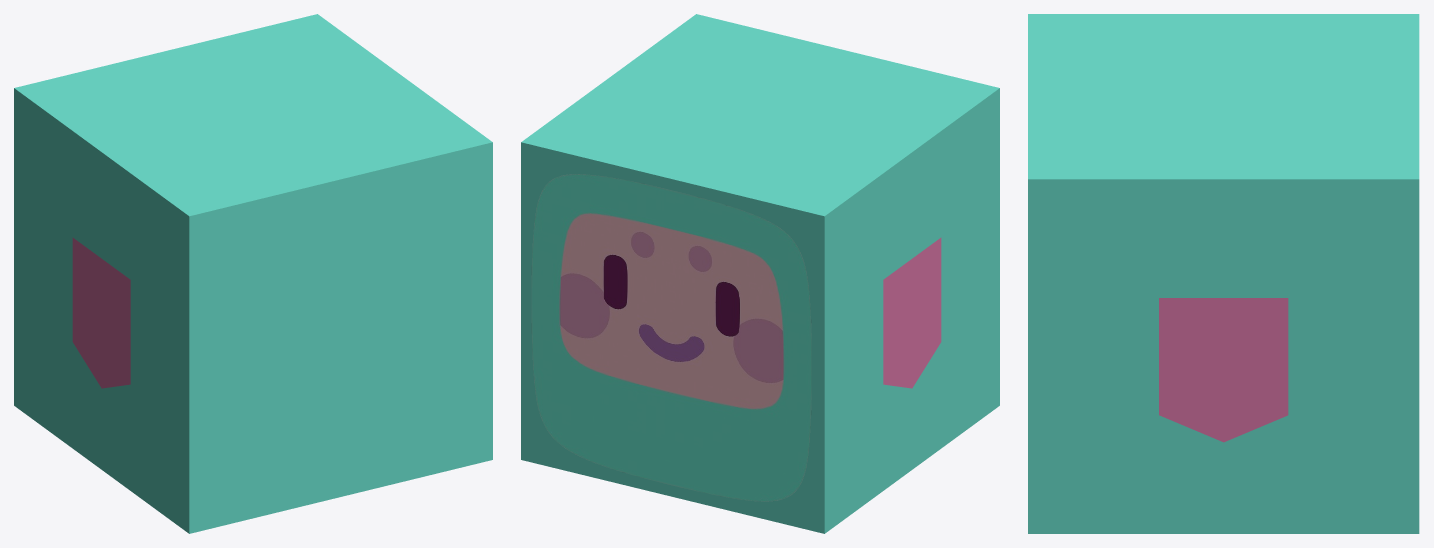
Rendered from Cubbies_nvc.fbx.
The picture shows the model from 3 angles, left to right: view 1: azimuth 30°, elevation 25°; view 2: azimuth 150°, elevation 25°; view 3: azimuth 270°, elevation 25°; orthographic projection. The views are drawn at different scales.
Visible parts, largest first — view 1: Cube; view 2: Cube; view 3: Cube.
Part boxes in pixels (x1,y1,x2,y2): Cube: [14, 14, 492, 533]; Cube: [521, 14, 999, 533]; Cube: [1028, 14, 1419, 533].
Bounding box in the file's own units: 2 × 2 × 2.
3 materials, 1 textured.
